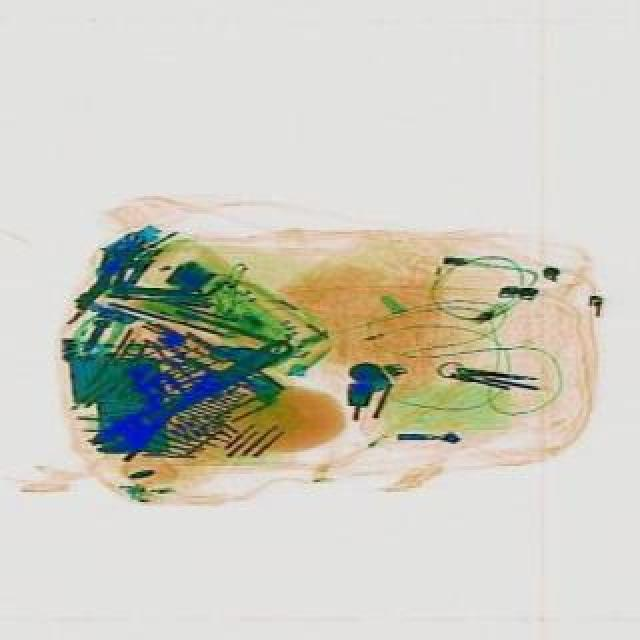scissors: (82, 326, 298, 464)
